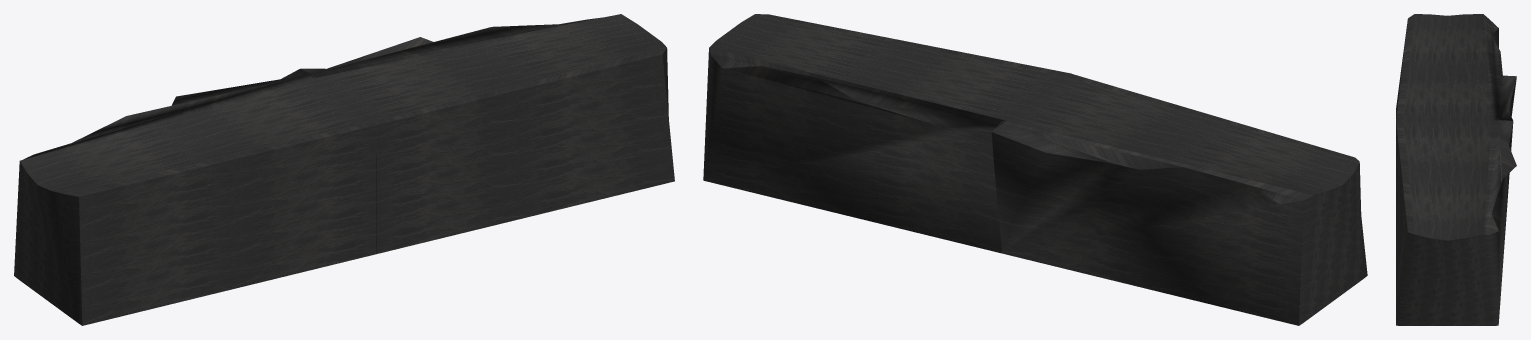
File: ImprovedLongRock.fbx
3 renders of one model, left to right at view 1: azimuth 30°, elevation 25°; view 2: azimuth 150°, elevation 25°; view 3: azimuth 270°, elevation 25°, orthographic. The views are drawn at different scales.
Visible parts, largest first — view 1: Cube; view 2: Cube; view 3: Cube.
Part boxes in pixels (x1,y1,x2,y2): Cube: (14, 14, 674, 325); Cube: (703, 14, 1367, 325); Cube: (1396, 14, 1516, 325).
Bounding box in the file's own units: 221 × 45.34 × 50.23.
1 material, 1 textured.
